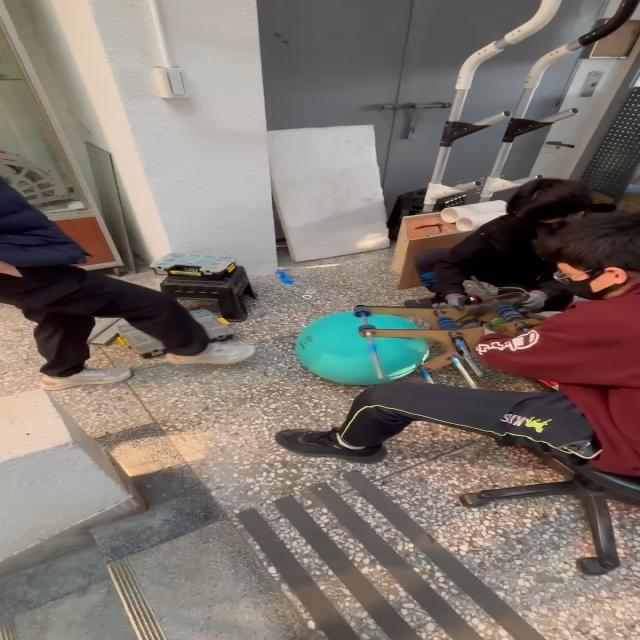ALGAE: (293, 309, 431, 386)
